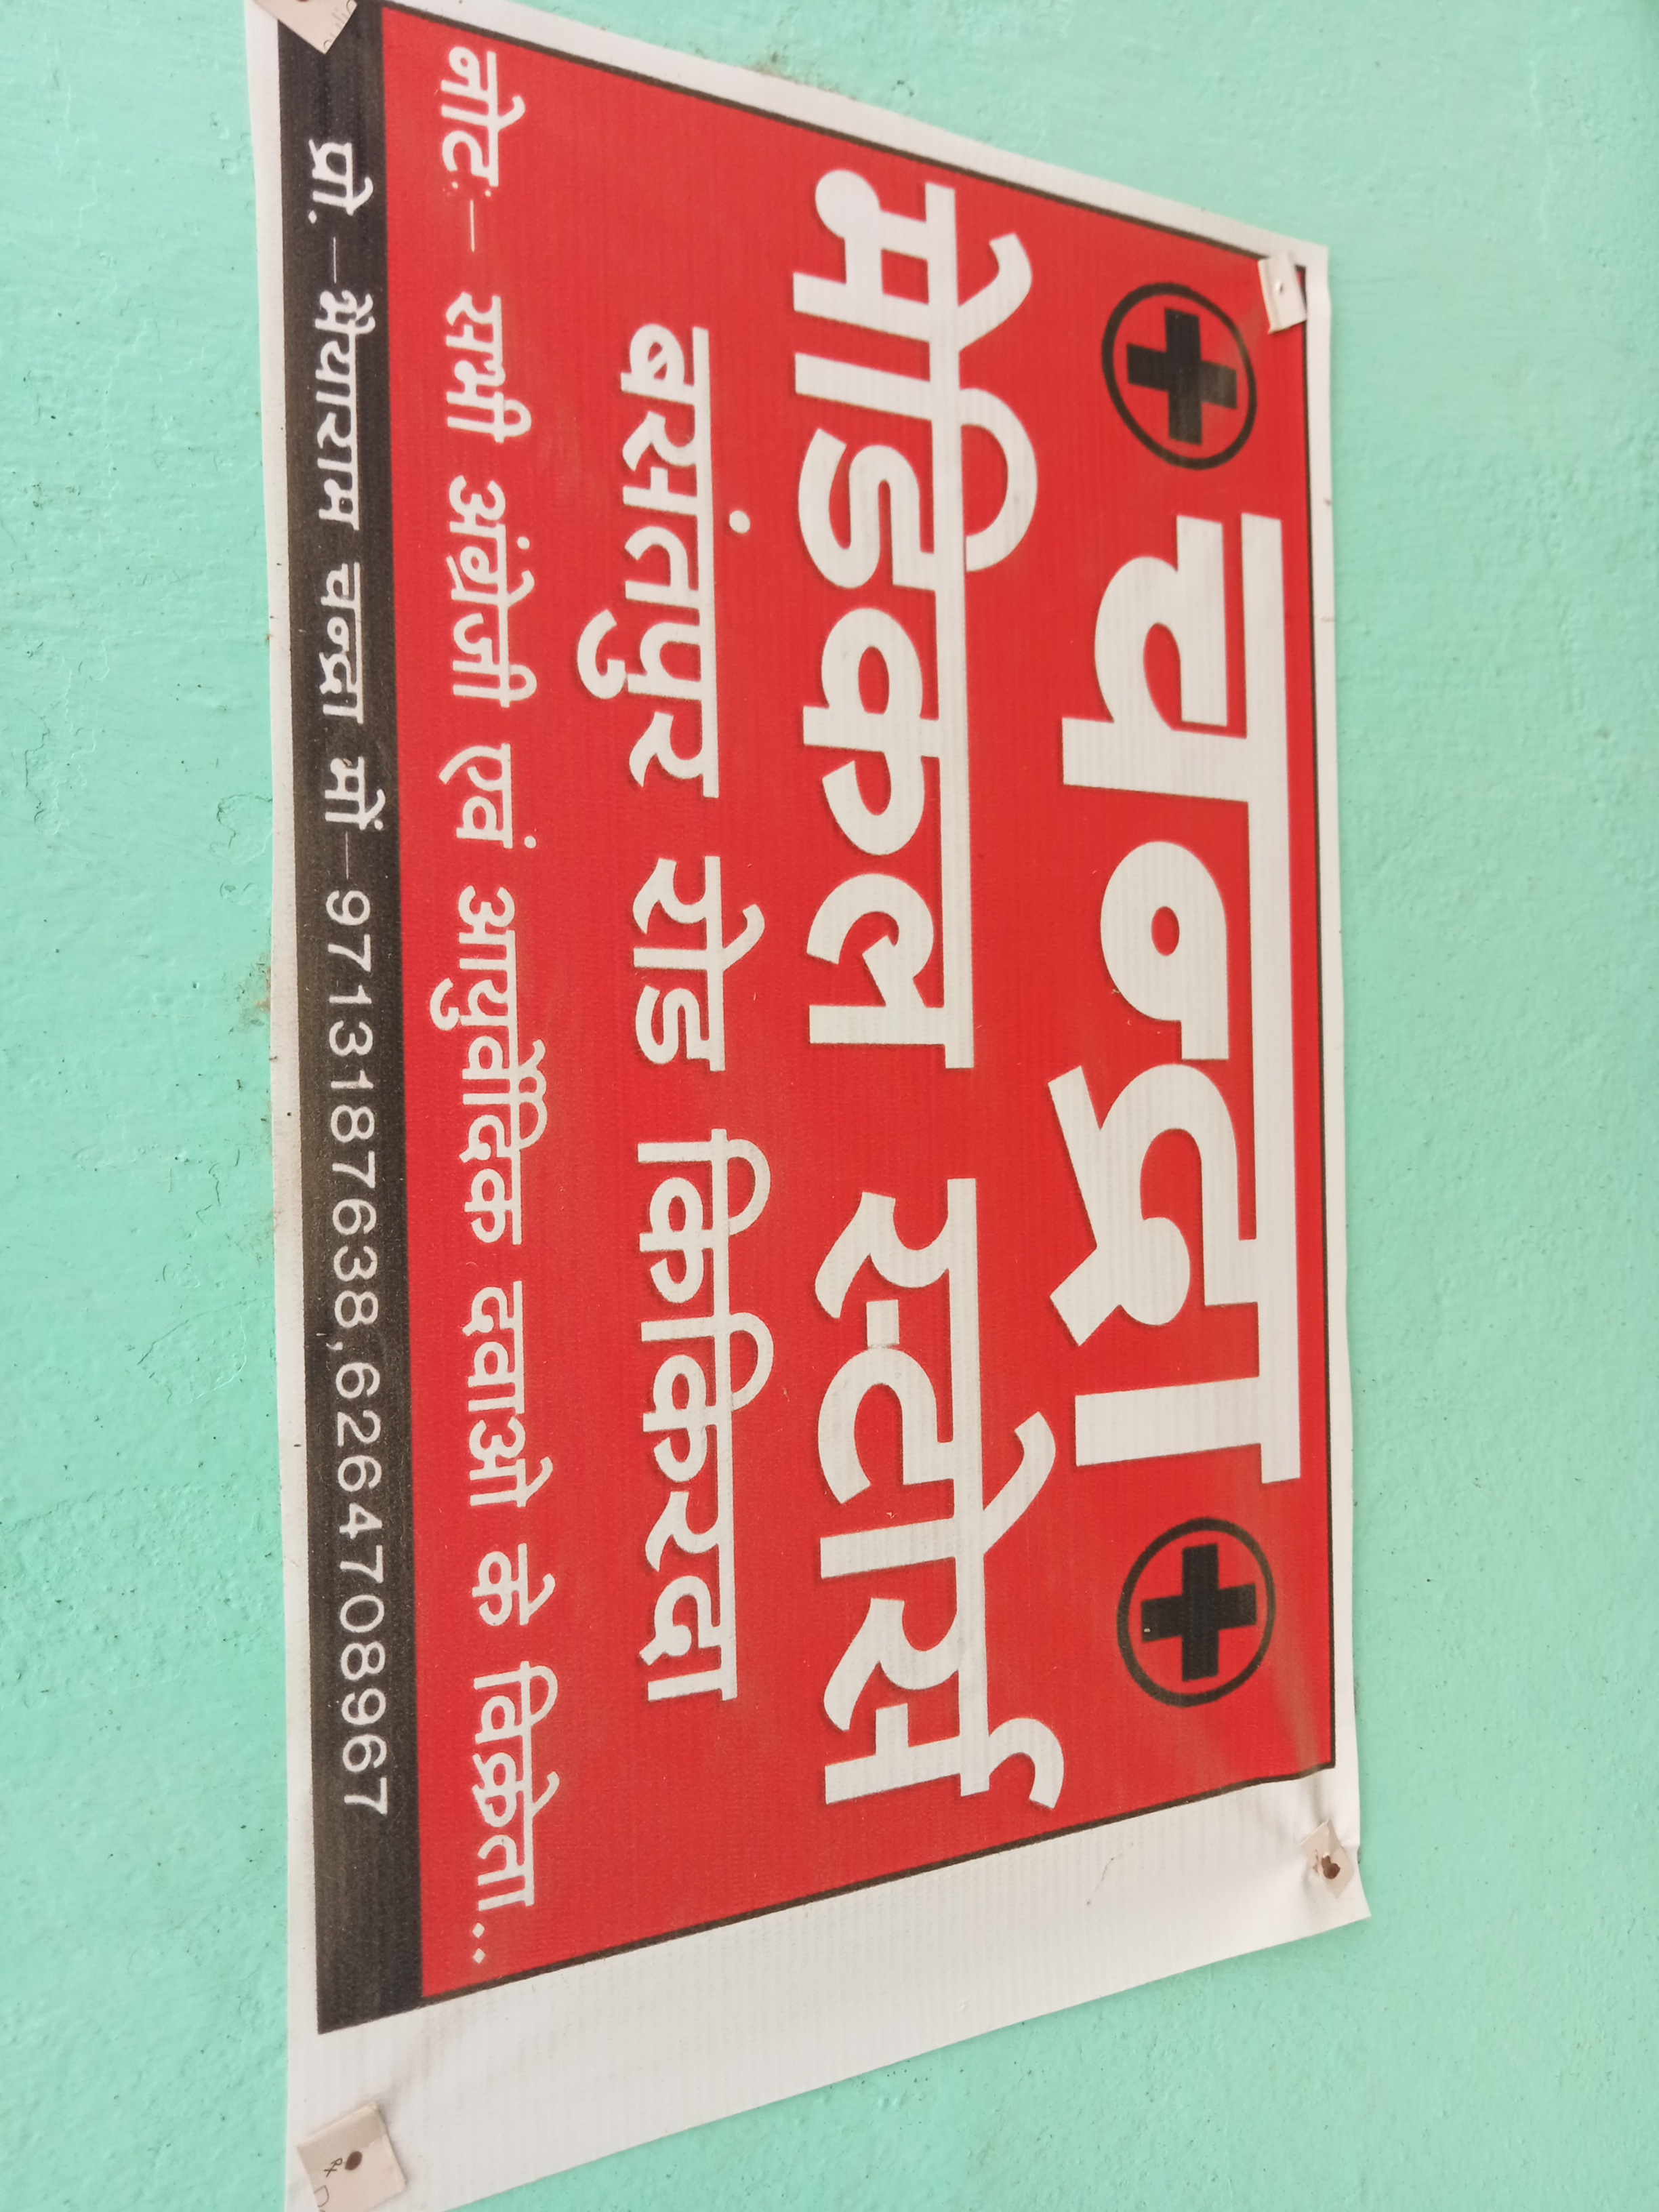text: (247, 5, 1366, 2203)
